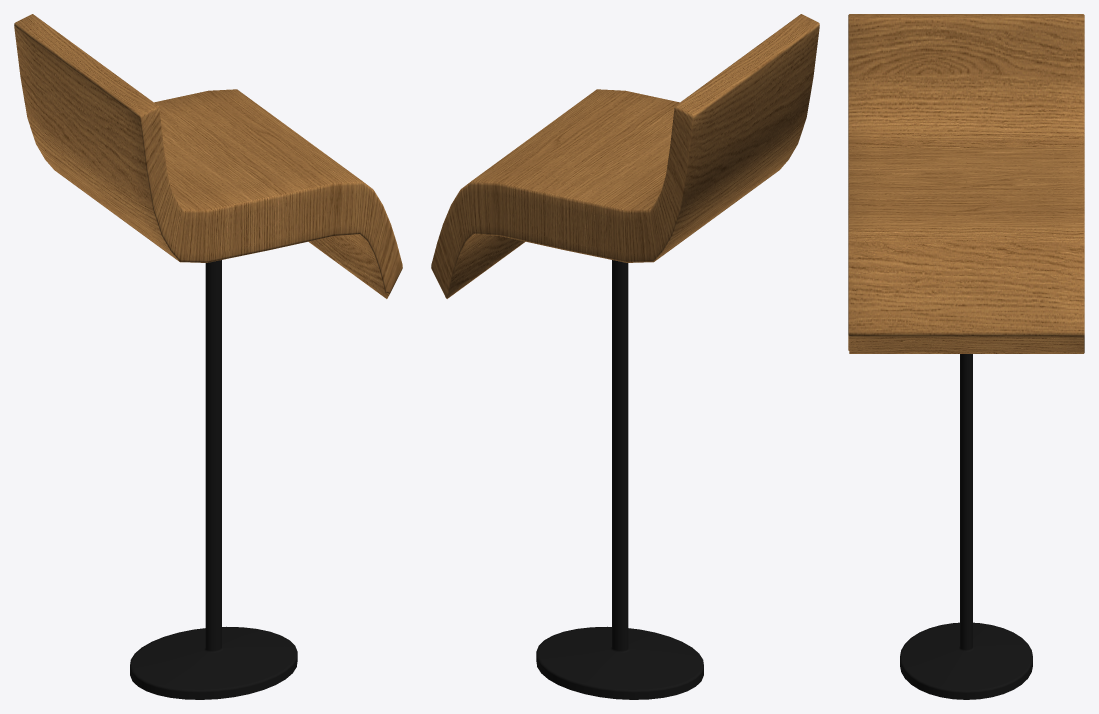
Rendered from Silla.obj.
The picture shows the model from 3 angles, left to right: view 1: azimuth 30°, elevation 25°; view 2: azimuth 150°, elevation 25°; view 3: azimuth 270°, elevation 25°; orthographic projection. The views are drawn at different scales.
Visible parts, largest first — view 1: Bench_Duet_obj:MesaDos1:Bar_Chair_Cattelan_Italia_Arcadia_Stool:; view 2: Bench_Duet_obj:MesaDos1:Bar_Chair_Cattelan_Italia_Arcadia_Stool:; view 3: Bench_Duet_obj:MesaDos1:Bar_Chair_Cattelan_Italia_Arcadia_Stool:.
Boxes of the visible parts, box(x1,y1,x2,y2) form: Bench_Duet_obj:MesaDos1:Bar_Chair_Cattelan_Italia_Arcadia_Stool:: box(14, 14, 402, 699); Bench_Duet_obj:MesaDos1:Bar_Chair_Cattelan_Italia_Arcadia_Stool:: box(431, 14, 819, 699); Bench_Duet_obj:MesaDos1:Bar_Chair_Cattelan_Italia_Arcadia_Stool:: box(848, 14, 1084, 699).
Size of the model in its own units: 0.7467 by 1.73 by 0.6239.
Materials: 2 (1 with a texture image).
